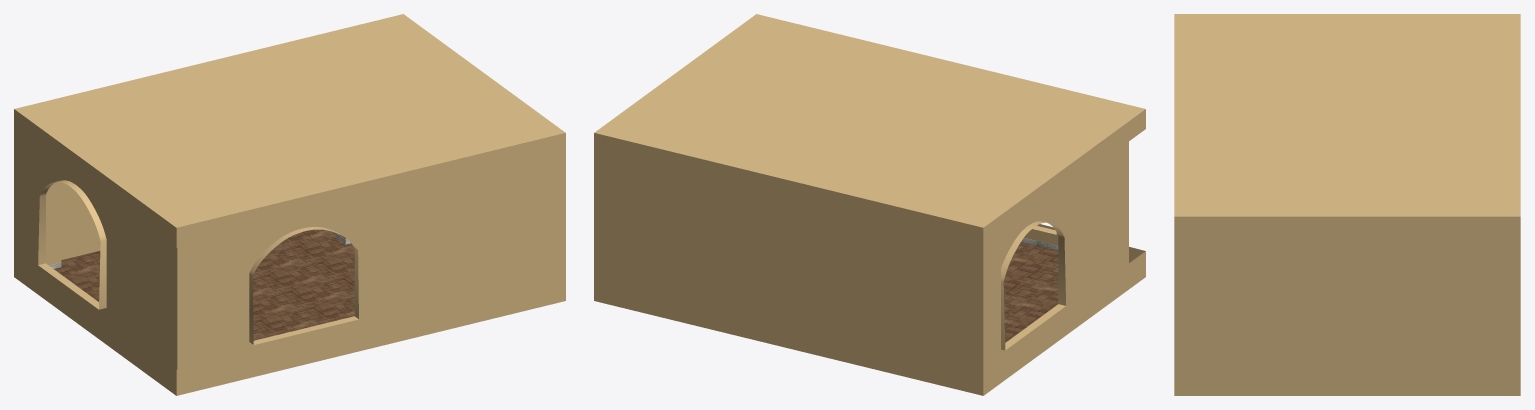
The model's file is Parlor02.FBX.
The picture shows the model from 3 angles, left to right: view 1: azimuth 30°, elevation 25°; view 2: azimuth 150°, elevation 25°; view 3: azimuth 270°, elevation 25°; orthographic projection. The views are drawn at different scales.
Visible parts, largest first — view 1: Parlor02; view 2: Parlor02; view 3: Parlor02.
Boxes of the visible parts, x1,y1,x2,y2 form: Parlor02: (14,14,565,395); Parlor02: (594,14,1145,395); Parlor02: (1174,14,1520,395).
Bounding box in the file's own units: 1561 × 644 × 1127.
